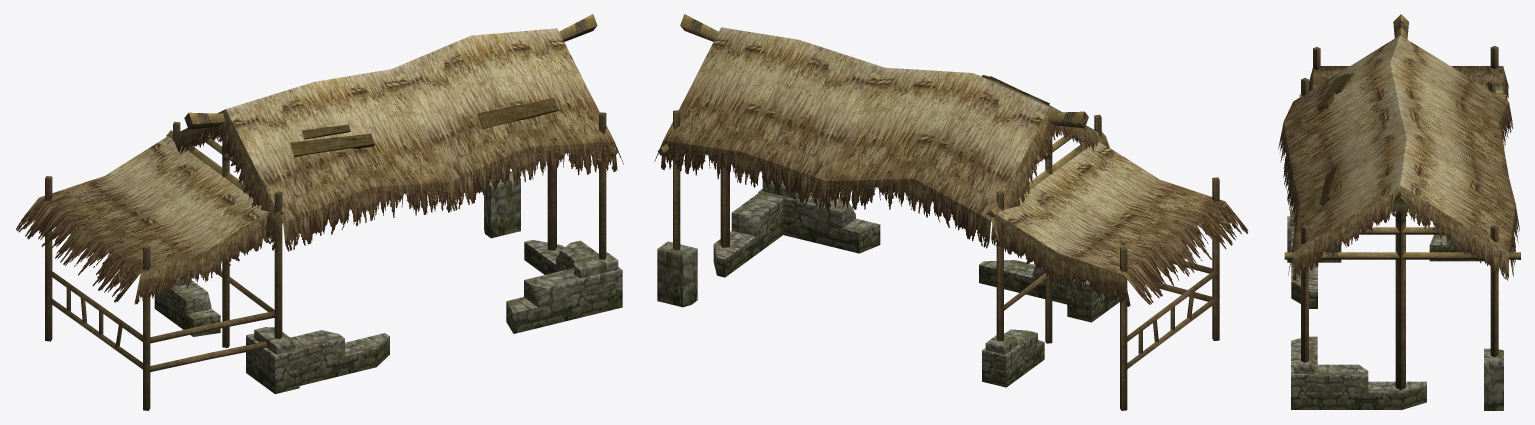
File: ZW_ycp1.FBX
3 views of the same model, side by side, from view 1: azimuth 30°, elevation 25°; view 2: azimuth 150°, elevation 25°; view 3: azimuth 270°, elevation 25° (orthographic). The views are drawn at different scales.
Parts seen in each view (by area): view 1: ZW_ycp12, ZW_ycp11; view 2: ZW_ycp12, ZW_ycp11; view 3: ZW_ycp12, ZW_ycp11.
Part boxes in pixels (bbox=[...]): ZW_ycp12: bbox=[16, 28, 623, 304]; ZW_ycp11: bbox=[45, 14, 622, 410]; ZW_ycp12: bbox=[654, 27, 1248, 306]; ZW_ycp11: bbox=[657, 14, 1219, 410]; ZW_ycp12: bbox=[1278, 35, 1519, 280]; ZW_ycp11: bbox=[1284, 14, 1520, 410].
Bounding box in the file's own units: 1201 × 545 × 518.
